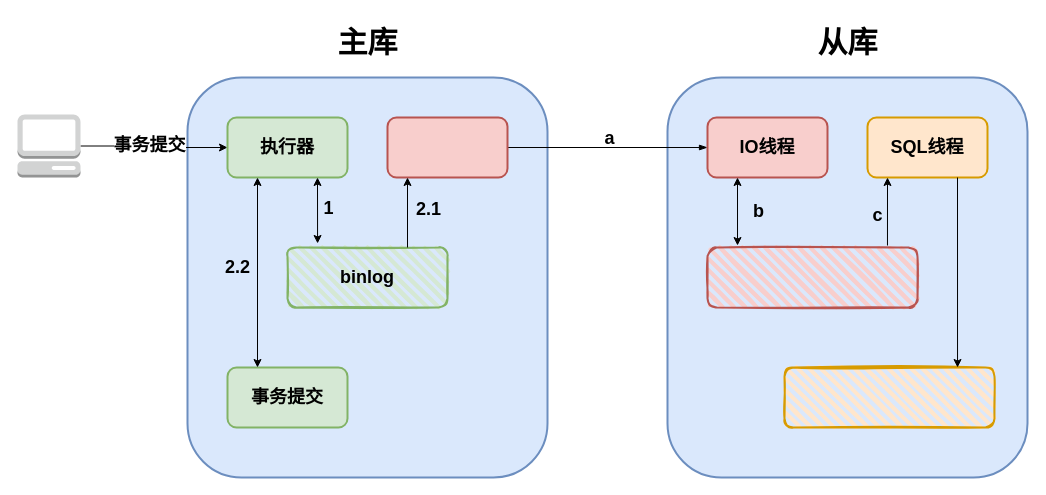
Some shapes in this 1046 by 495 pixel diagram are drawn without their labels. The centre of each missing label's shape, as x and y in pixels:
"log dump 线程" goes at (x=447, y=147).
"relay log（中继日志）" goes at (x=812, y=277).
"存储引擎" goes at (x=889, y=397).
